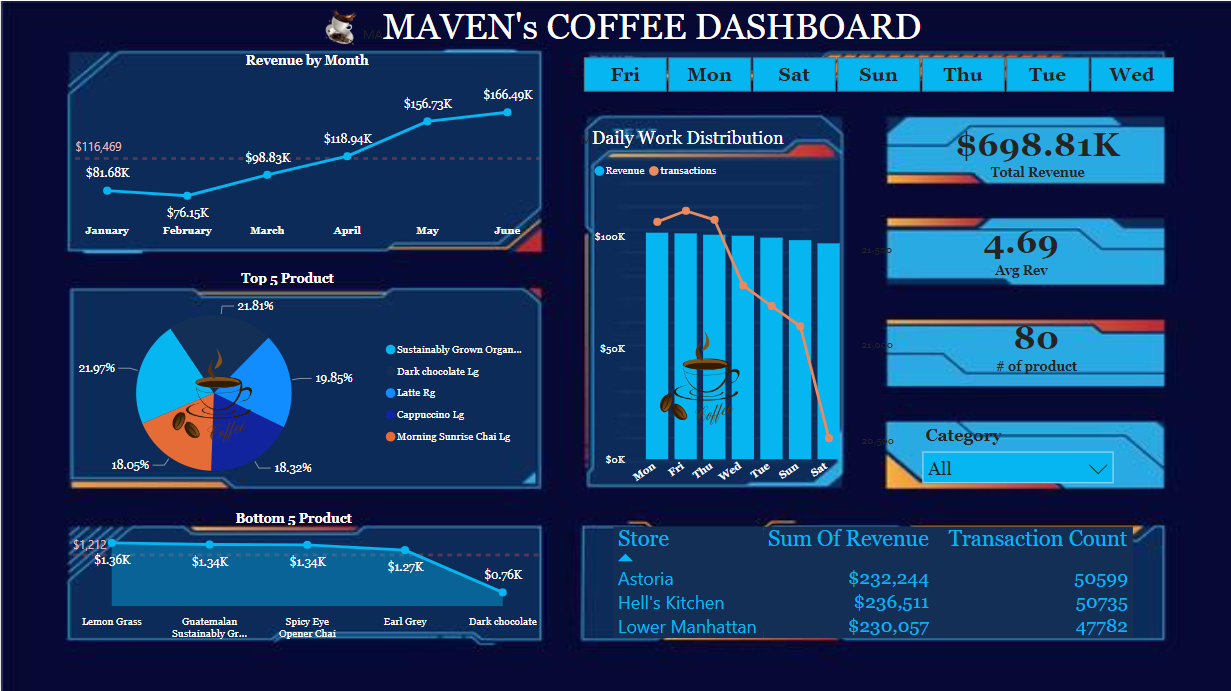

The page's visual inventory and layout, read from the dashboard file:
{"tool":"powerbi","page":{"name":"Page 1","canvas":[1280,720],"ordinal":0},"visuals":[{"type":"card","fields":{"Values":["Transactions.Total Revenue"]},"box":[936.6,86.9,284.3,134.3],"z":0},{"type":"card","fields":{"Values":["Count(Transactions.product_id)"]},"box":[935.5,288.9,284.3,134.3],"z":1000},{"type":"card","fields":{"Values":["Transactions.Avg Rev"]},"box":[920.4,188.5,284.3,134.3],"z":2000},{"type":"lineChart","title":"Revenue by Month","fields":{"Y":["Transactions.Total Revenue"],"Category":["Transactions.transaction_date.Variation.Date Hierarchy.Month"]},"box":[71.8,54.7,493.5,199.9],"z":3000},{"type":"lineStackedColumnComboChart","title":"Revenue by Month","fields":{"Category":["Transactions.Day Name"],"Y":["Transactions.Total Revenue"],"Y2":["CountNonNull(Transactions.transaction_id)"]},"box":[600.8,156.2,336.3,353],"z":4000},{"type":"slicer","fields":{"Values":["Transactions.Day Name"]},"box":[581.5,51,663.8,50],"z":5000},{"type":"pivotTable","title":"Revenue by Month","fields":{"Rows":["Transactions.store_location"],"Values":["Sum(Transactions.Revenue)","CountNonNull(Transactions.transaction_id)"]},"box":[632.5,542.5,609.1,129.6],"z":6000},{"type":"pieChart","title":"                   Top 5 Product","fields":{"Category":["Transactions.product_detail"],"Y":["Transactions.Total Revenue"]},"box":[37.5,281.1,521.6,239],"z":7000},{"type":"areaChart","title":"Bottom 5 Product","fields":{"Category":["Transactions.product_detail"],"Y":["Transactions.Total Revenue"]},"box":[34.4,530.5,540.4,142.6],"z":8000},{"type":"textbox","box":[371.7,0,815.3,64],"z":9000},{"type":"slicer","fields":{"Values":["Transactions.product_category"]},"box":[949.6,437.8,218.7,75],"z":10000},{"type":"image","box":[666.9,337.4,121.8,109.3],"z":11000},{"type":"image","box":[299.9,0,107.8,52.6],"z":12000},{"type":"image","box":[159.3,355.6,121.8,109.3],"z":13000},{"type":"textbox","box":[598.7,127,320.2,53.1],"z":14000}]}

Visuals, with their boxes in screenshot pixels (x1, y1, x2, y2), scaled from the page's 1280x720 canvas onto the 1231x691 screenshot:
card - Transactions.Total Revenue: bbox=(901, 83, 1174, 212)
card - Count(Transactions.product_id): bbox=(900, 277, 1173, 406)
card - Transactions.Avg Rev: bbox=(885, 181, 1159, 310)
"Revenue by Month" lineChart: bbox=(69, 52, 544, 244)
"Revenue by Month" lineStackedColumnComboChart: bbox=(578, 150, 901, 489)
slicer - Transactions.Day Name: bbox=(559, 49, 1198, 97)
"Revenue by Month" pivotTable: bbox=(608, 521, 1194, 645)
"                   Top 5 Product" pieChart: bbox=(36, 270, 538, 499)
"Bottom 5 Product" areaChart: bbox=(33, 509, 553, 646)
textbox: bbox=(357, 0, 1142, 61)
slicer - Transactions.product_category: bbox=(913, 420, 1124, 492)
image: bbox=(641, 324, 759, 429)
image: bbox=(288, 0, 392, 50)
image: bbox=(153, 341, 270, 446)
textbox: bbox=(576, 122, 884, 173)
